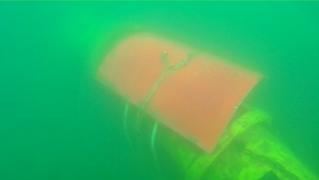leak: (92, 29, 260, 155)
pipe: (107, 89, 319, 180), (47, 3, 143, 78)
